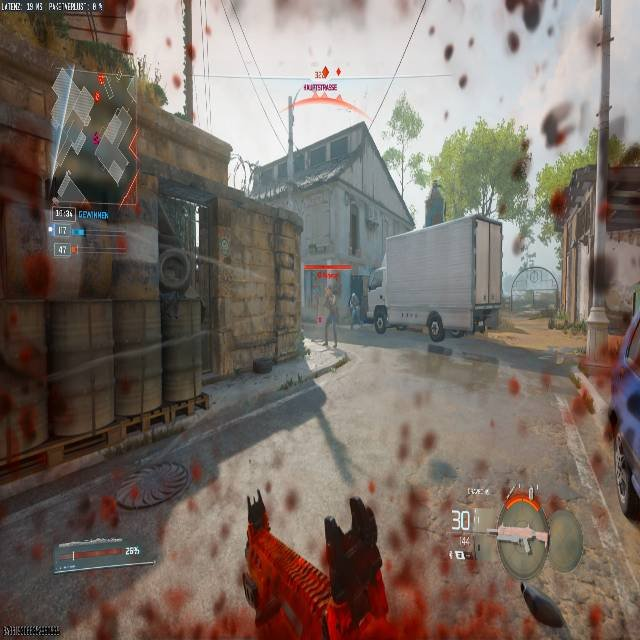player: (318, 279, 341, 345), (424, 309, 447, 347), (372, 298, 388, 334), (324, 280, 335, 310)
